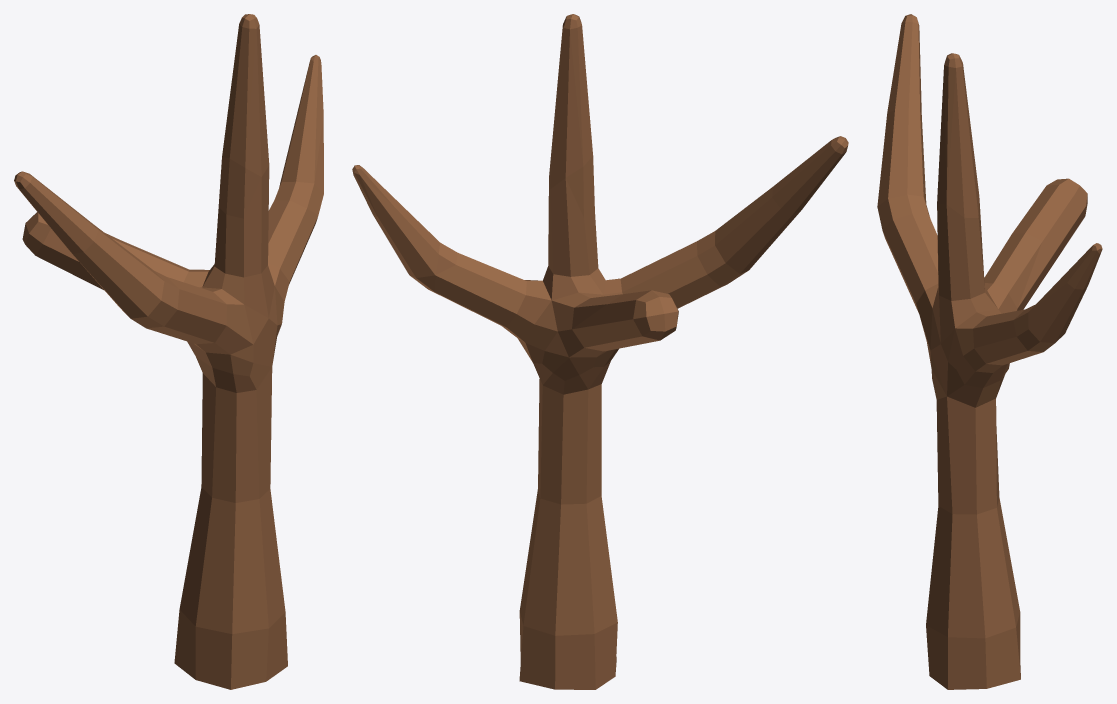
Rendered from tree-autumn-trunk-10-047.glb.
The picture shows the model from 3 angles, left to right: view 1: azimuth 30°, elevation 25°; view 2: azimuth 150°, elevation 25°; view 3: azimuth 270°, elevation 25°; orthographic projection. The views are drawn at different scales.
Visible parts, largest first — view 1: TREE 10.002_420; view 2: TREE 10.002_420; view 3: TREE 10.002_420.
Part boxes in pixels (<box>): TREE 10.002_420: <box>14,14,323,689</box>; TREE 10.002_420: <box>352,14,848,689</box>; TREE 10.002_420: <box>877,14,1102,689</box>.
Size of the model in its own units: 0.5222 by 0.8136 by 0.2675.
